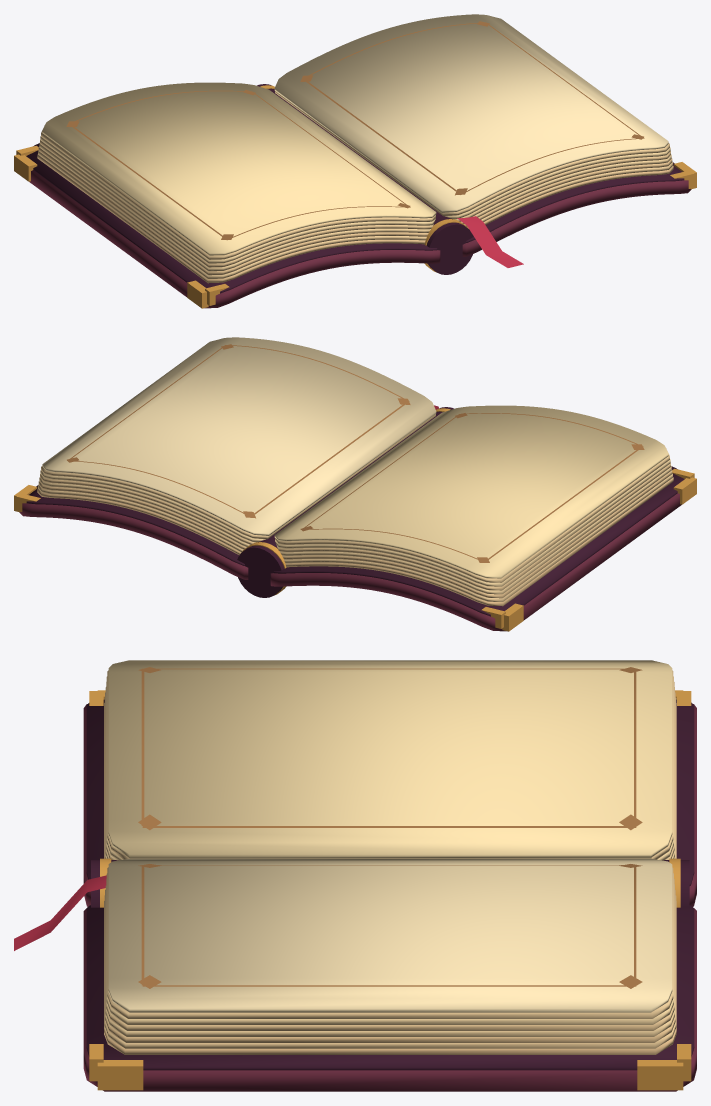
File: law_codex.glb
The picture shows the model from 3 angles, top to bottom: view 1: azimuth 30°, elevation 25°; view 2: azimuth 150°, elevation 25°; view 3: azimuth 270°, elevation 25°; orthographic projection. The views are drawn at different scales.
Parts seen in each view (by area): view 1: RightLeaf, LeftLeaf, LeftCover, LeftCoverRim, RightCover, RoundedLeatherSpine, LeftPaper6, LeftPaper0, LeftPaper5, LeftPaper3, LeftPaper4, LeftPaper2 (+12 smaller); view 2: RightLeaf, LeftLeaf, LeftCover, LeftCoverRim, RightCover, RoundedLeatherSpine, LeftPaper6, RightCoverRim, LeftPaper0, LeftPaper5, LeftPaper3, LeftPaper4 (+11 smaller); view 3: LeftLeaf, RightLeaf, RightCoverRim, RightCover, LeftCoverRim, RightPaper6, RightPaper0, RightPaper1, RightPaper3, RightPaper5, RightPaper2, RightPaper4 (+9 smaller).
Boxes of the visible parts, <box> form: RightLeaf: <box>274,14,668,212</box>; LeftLeaf: <box>42,82,436,255</box>; LeftCover: <box>29,170,440,308</box>; LeftCoverRim: <box>26,143,437,293</box>; RightCover: <box>462,180,691,256</box>; RoundedLeatherSpine: <box>257,84,473,274</box>; LeftPaper6: <box>41,125,435,259</box>; LeftPaper0: <box>37,154,425,283</box>; LeftPaper5: <box>40,136,435,263</box>; LeftPaper3: <box>39,143,430,271</box>; LeftPaper4: <box>40,140,433,267</box>; LeftPaper2: <box>38,146,428,275</box>; RightLeaf: <box>42,337,436,535</box>; LeftLeaf: <box>274,405,668,578</box>; LeftCover: <box>270,493,681,631</box>; LeftCoverRim: <box>273,466,684,616</box>; RightCover: <box>19,503,248,579</box>; RoundedLeatherSpine: <box>237,407,453,597</box>; LeftPaper6: <box>275,448,669,582</box>; RightCoverRim: <box>26,485,244,565</box>; LeftPaper0: <box>285,477,673,606</box>; LeftPaper5: <box>275,459,670,586</box>; LeftPaper3: <box>280,466,671,594</box>; LeftPaper4: <box>277,463,670,590</box>; LeftLeaf: <box>108,660,672,858</box>; RightLeaf: <box>108,858,672,1012</box>; RightCoverRim: <box>86,905,694,1070</box>; RightCover: <box>83,908,696,1091</box>; LeftCoverRim: <box>86,699,694,885</box>; RightPaper6: <box>107,867,673,1018</box>; RightPaper0: <box>104,901,676,1054</box>; RightPaper1: <box>104,895,676,1048</box>; RightPaper3: <box>105,884,674,1036</box>; RightPaper5: <box>106,873,673,1024</box>; RightPaper2: <box>105,890,675,1042</box>; RightPaper4: <box>106,879,674,1030</box>.
Bounding box in the file's own units: 4.85 × 0.7583 × 3.72.
